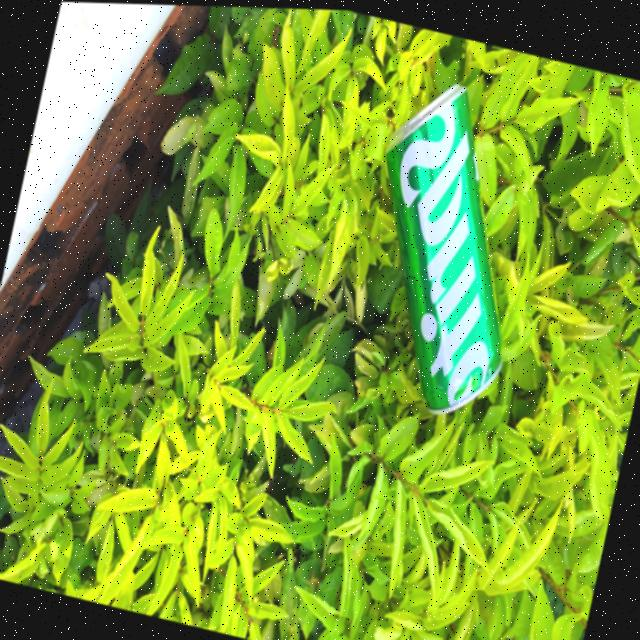Sprite: (336, 68, 556, 412)
